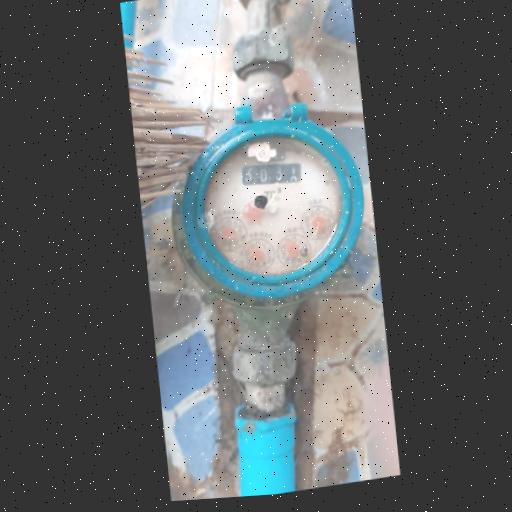0: (253, 163, 272, 187)
1: (282, 162, 300, 183)
3: (267, 163, 286, 185), (240, 164, 257, 186)
border_water_meter_number: (239, 157, 302, 191)
